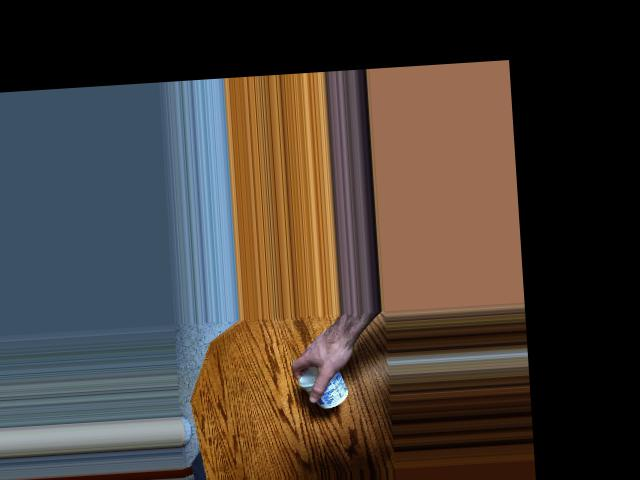cotage: (298, 356, 356, 407)
